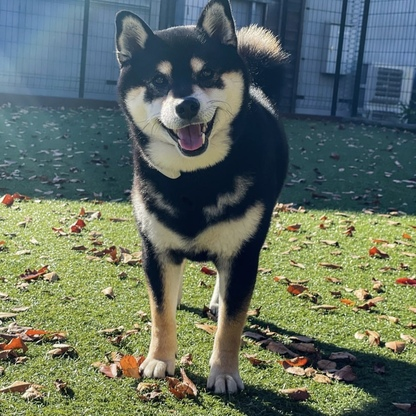shiba: (100, 1, 301, 402)
